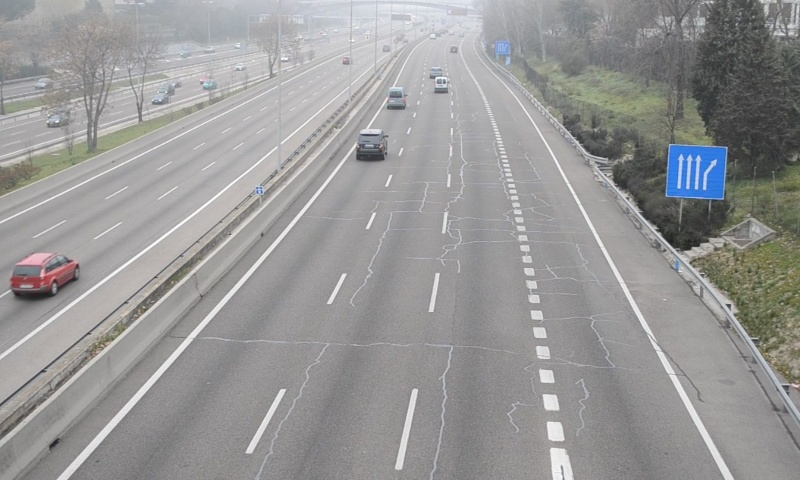car: (356, 129, 386, 158)
van: (386, 86, 407, 110)
